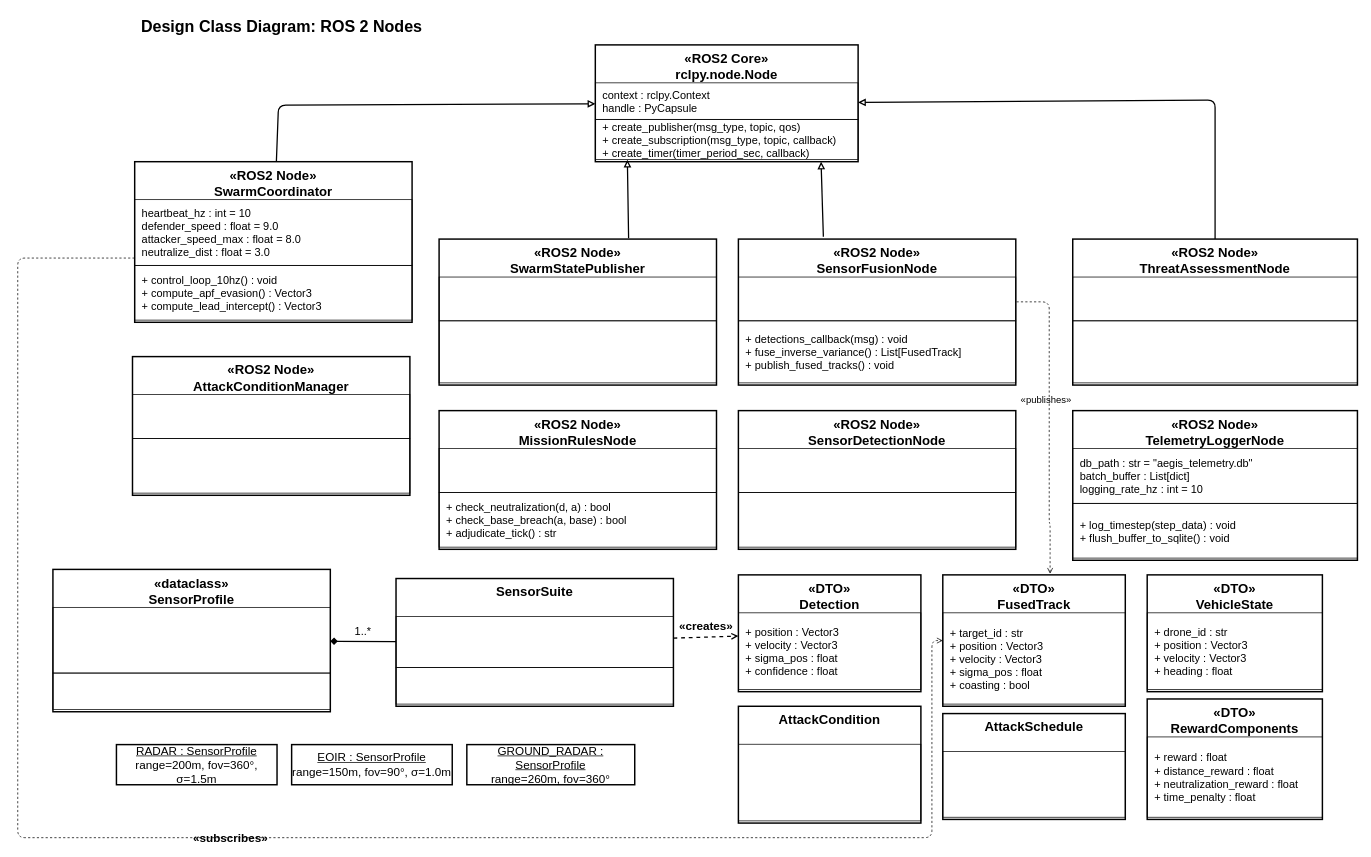
The diagram is 1371 pixels wide and 857 high, and some of its shapes have lost their labels. Here are the shapes that lost their labels. From the top down, the centre of each, then its label:
At point 577,298: "state_buffer : Dict[str, VehicleState] publish_rate_hz : int = 10".
At point 877,298: "tracks : Dict[str, FusedTrack] fusion_rate_hz : int = 10".
At point 1214,298: "threat_scores : Dict[str, float] assignment_map : Dict[str, str]".
At point 577,351: "+ position_callback(msg, drone_id) : void + aggregate_and_publish() : void".
At point 1214,351: "+ compute_threat_score(track) : float + update_defender_assignments() : void".
At point 271,416: "active_conditions : List[AttackCondition] degradation_active : bool".
At point 271,465: "+ schedule_attack(cond) : void + apply_sensor_corruption(reading) : reading".
At point 577,470: "mission_status : str base_h_a, base_h_d : Vector3".
At point 877,470: "profiles : List[SensorProfile] drone_id : str".
At point 877,519: "+ generate_detection(target) : Detection + publish_raw_readings() : void".
At point 191,640: "+ name : str + max_range : float + fov_deg : float + sigma_pos : float".
At point 534,642: "radar : SensorProfile eoir : SensorProfile ground_radar : SensorProfile".
At point 191,691: "+ in_range(distance : float) : bool".
At point 534,685: "+ observe(target : Vector3) : List[Detection]".
At point 829,782: "+ type : str + intensity : float + start_time : float + duration : float".
At point 1033,784: "+ scenario_name : str + conditions : List[AttackCondition]".
